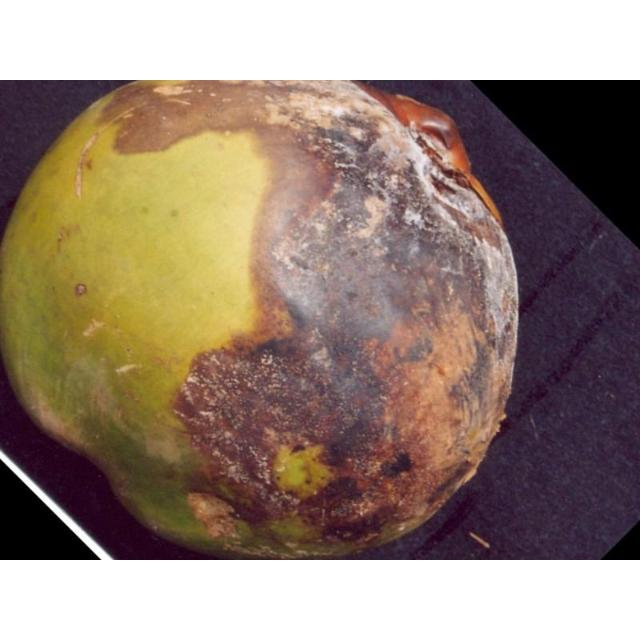damaged: (0, 80, 518, 559)
